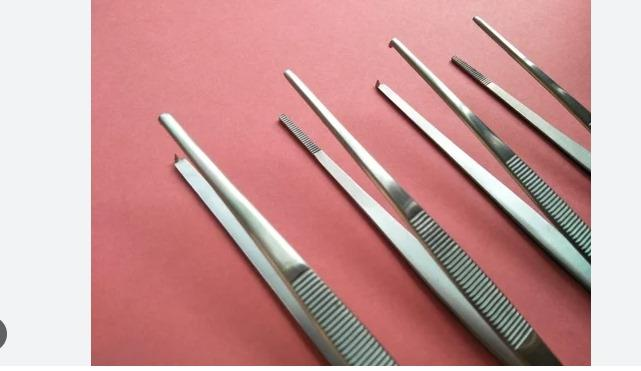Dissecting Forceps Plain: (278, 64, 556, 367), (456, 15, 594, 137)
Dissecting Forceps Tooth: (374, 35, 596, 307), (152, 113, 379, 361)
